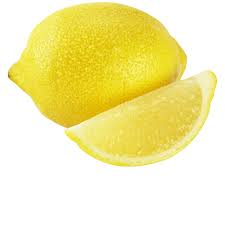Lemon: (2, 3, 197, 130)
